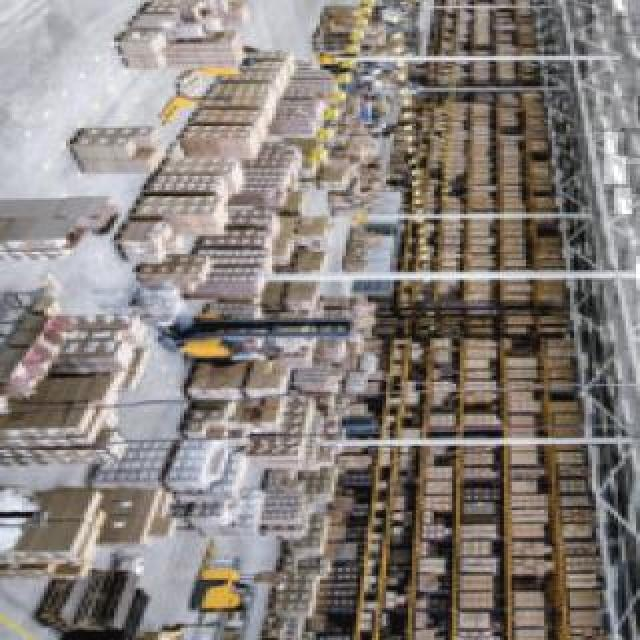fluorescent tube: (630, 92, 640, 122)
